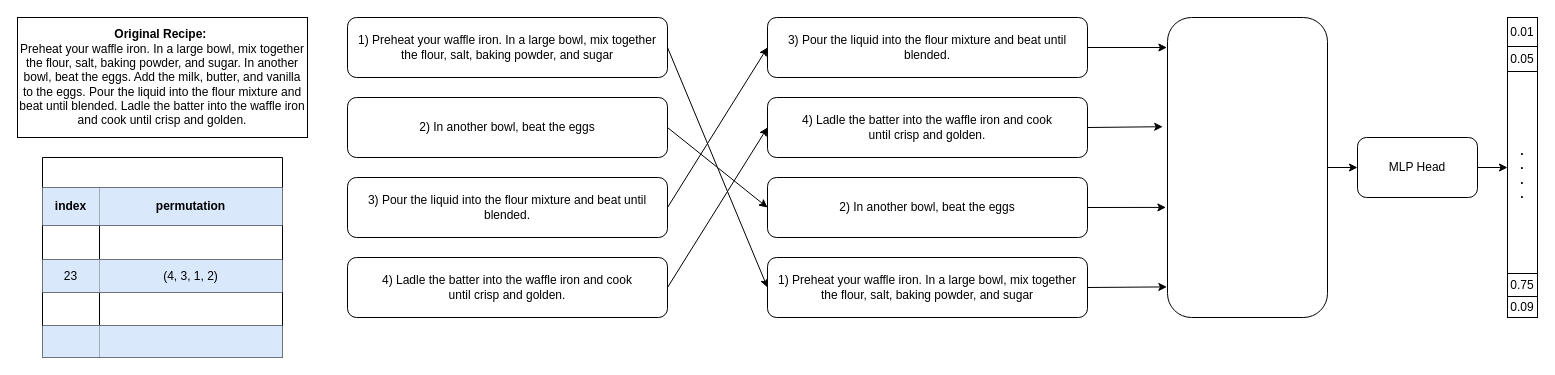
Some shapes in this 1555 by 375 pixel diagram are drawn without their labels. Each missing label, with the box of its shape:
Permutation set: (42, 156, 282, 358)
Transformer Model: (1166, 16, 1328, 318)
